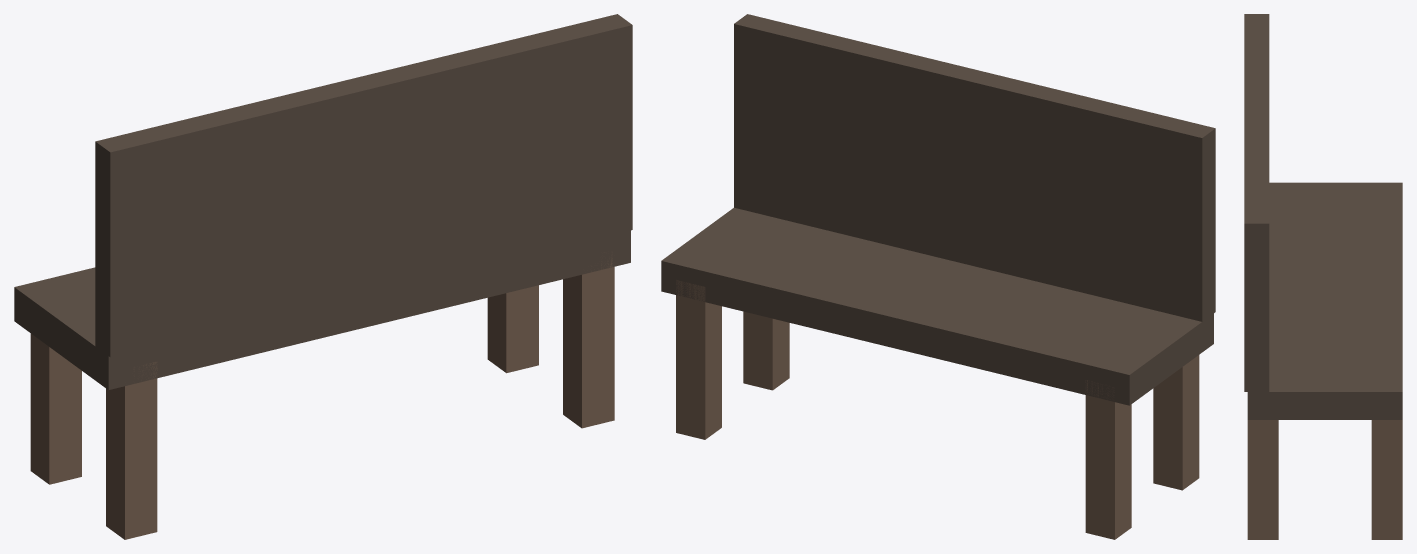
The model's file is prop_bench.glb.
3 renders of one model, left to right at view 1: azimuth 30°, elevation 25°; view 2: azimuth 150°, elevation 25°; view 3: azimuth 270°, elevation 25°, orthographic. The views are drawn at different scales.
Visible parts, largest first — view 1: bench; view 2: bench; view 3: bench.
Part boxes in pixels (x1,y1,x2,y2): bench: (14, 14, 632, 539); bench: (661, 14, 1215, 539); bench: (1244, 14, 1402, 539).
Bounding box in the file's own units: 1.6 × 1.15 × 0.51.
